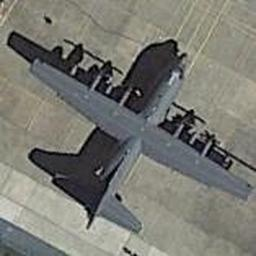Airplane: (21, 37, 256, 234)
